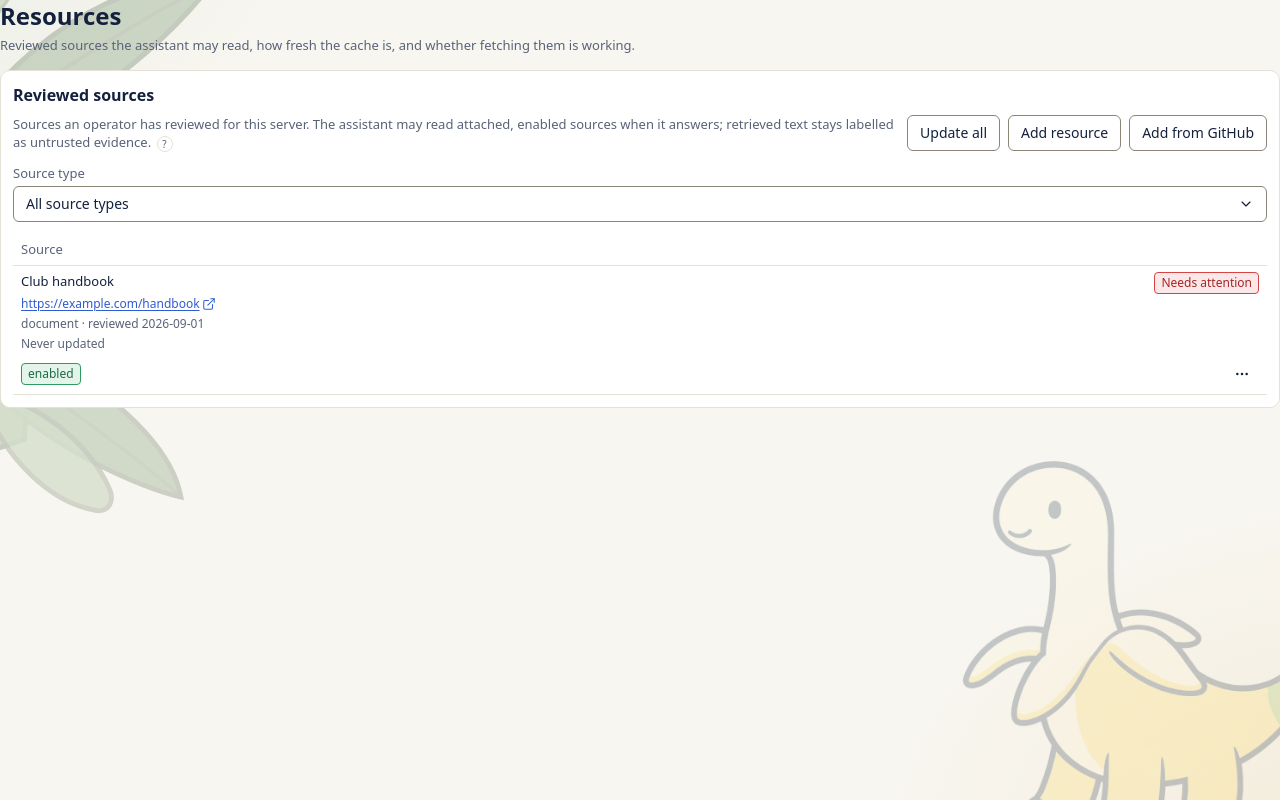
Test: keeps both add entry points available without writing when opened
The image size is (1280, 800).
Click the button "Add resource".
click(1065, 133)  # box left=1008, top=115, right=1121, bottom=151
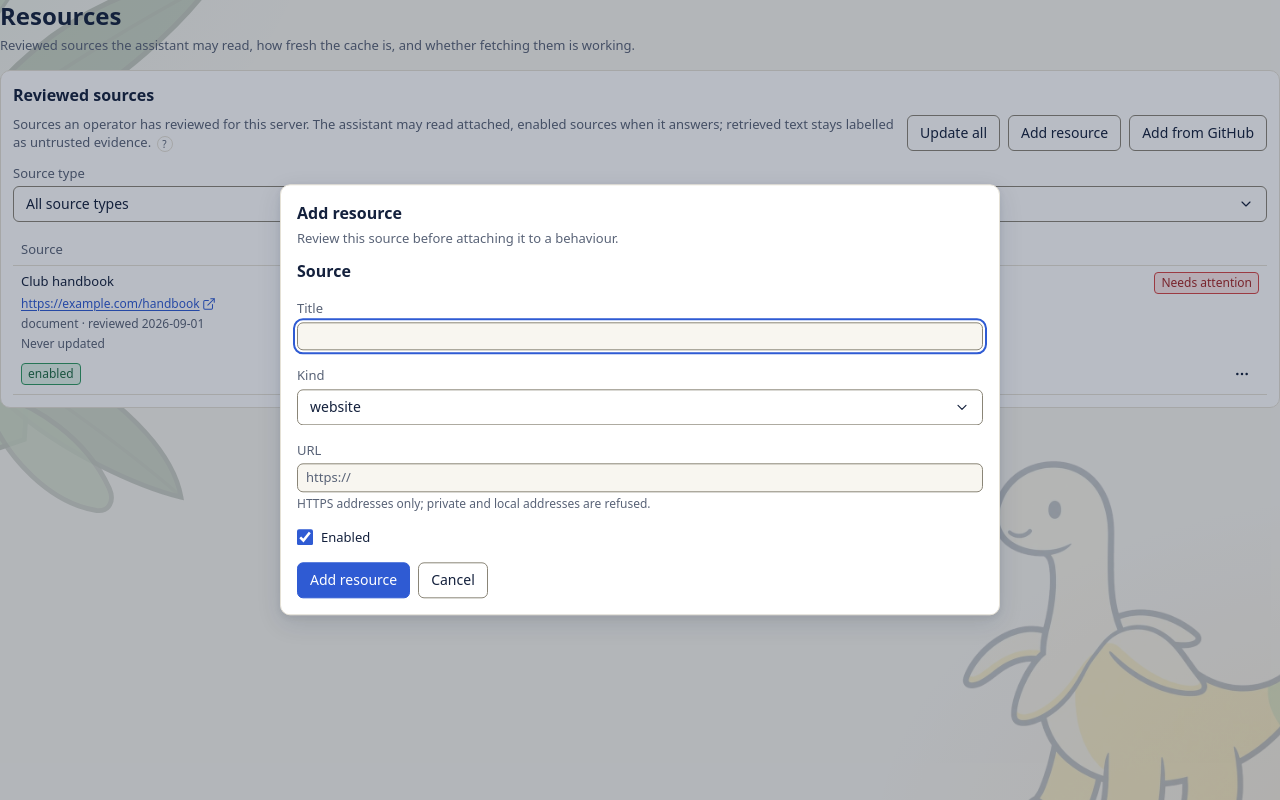
Expected: the dialog "Add resource" is shown, left=280, top=184, right=1000, bottom=616
Click the button "Cancel".
click(453, 581)  # box left=418, top=563, right=488, bottom=599
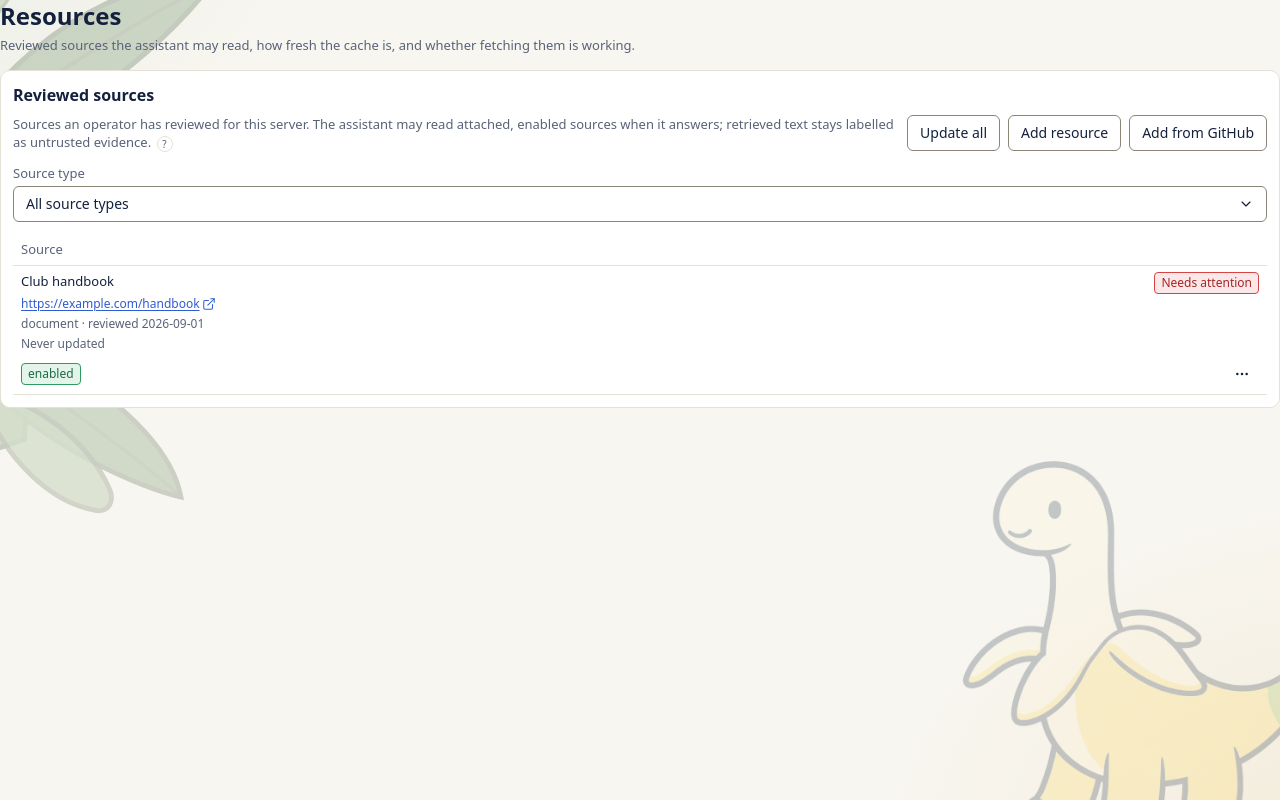
Click the button "Add from GitHub".
click(1198, 133)  # box left=1129, top=115, right=1267, bottom=151
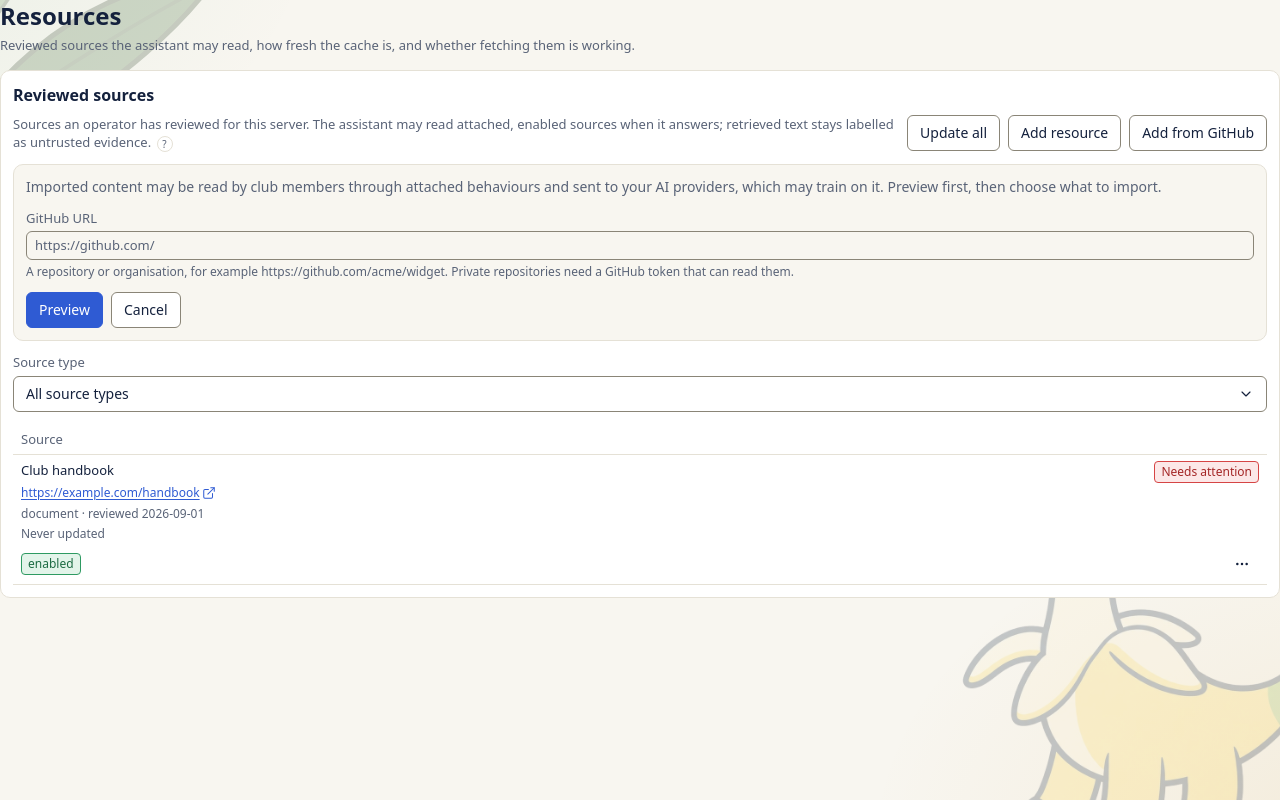
Expected: the field labelled "GitHub URL" is shown, left=26, top=231, right=1254, bottom=260
